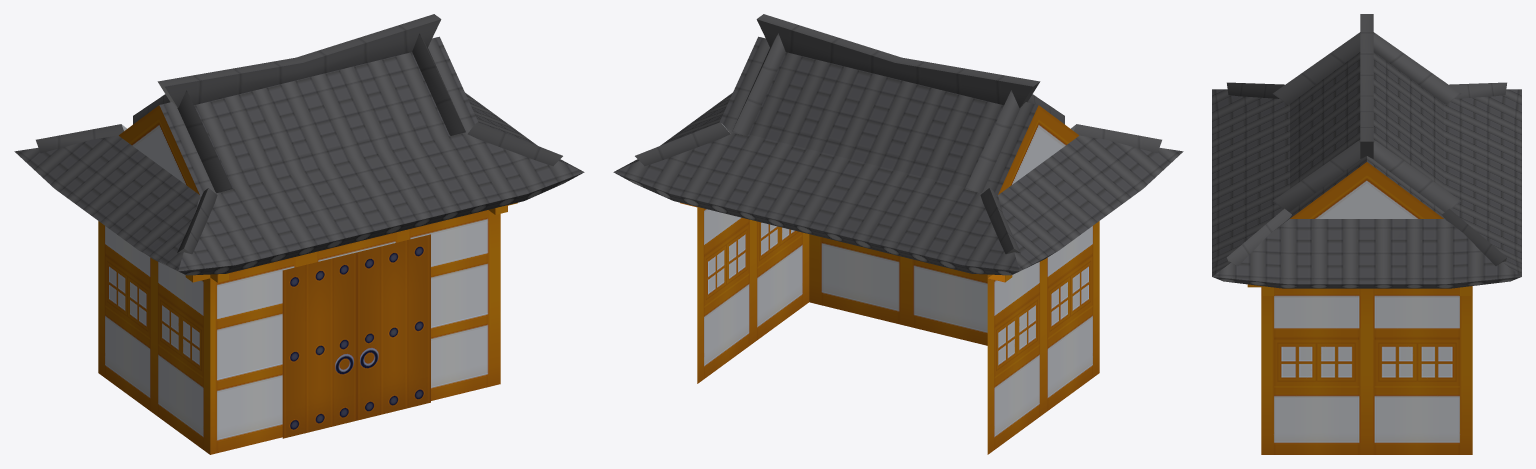
File: Landmark_Bukchon_Hanok_02.fbx
3 renders of one model, left to right at view 1: azimuth 30°, elevation 25°; view 2: azimuth 150°, elevation 25°; view 3: azimuth 270°, elevation 25°, orthographic. The views are drawn at different scales.
Parts seen in each view (by area): view 1: Landmark_Bukchon_Hanok_02; view 2: Landmark_Bukchon_Hanok_02; view 3: Landmark_Bukchon_Hanok_02.
Part boxes in pixels (x1,y1,x2,y2): Landmark_Bukchon_Hanok_02: (14, 14, 584, 454); Landmark_Bukchon_Hanok_02: (613, 14, 1183, 454); Landmark_Bukchon_Hanok_02: (1212, 14, 1521, 454).
Size of the model in its own units: 1514 by 1168 by 1058.
